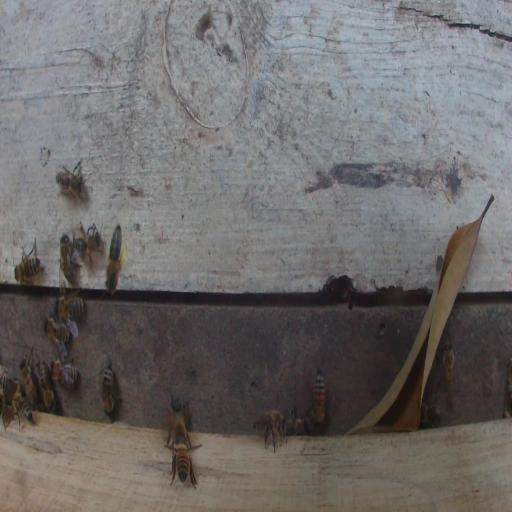nonpollenbee: (252, 407, 287, 454), (55, 159, 87, 201), (14, 237, 42, 284), (59, 234, 80, 286), (55, 289, 85, 324), (43, 316, 70, 353), (19, 354, 38, 404), (101, 362, 118, 417), (39, 360, 56, 412), (50, 359, 80, 388), (312, 370, 326, 425), (12, 393, 34, 426), (441, 340, 455, 390), (74, 230, 101, 255), (286, 411, 312, 435), (2, 375, 20, 404), (171, 413, 186, 445), (420, 402, 439, 427), (177, 443, 189, 480)
pollenbee: (106, 223, 125, 291)
